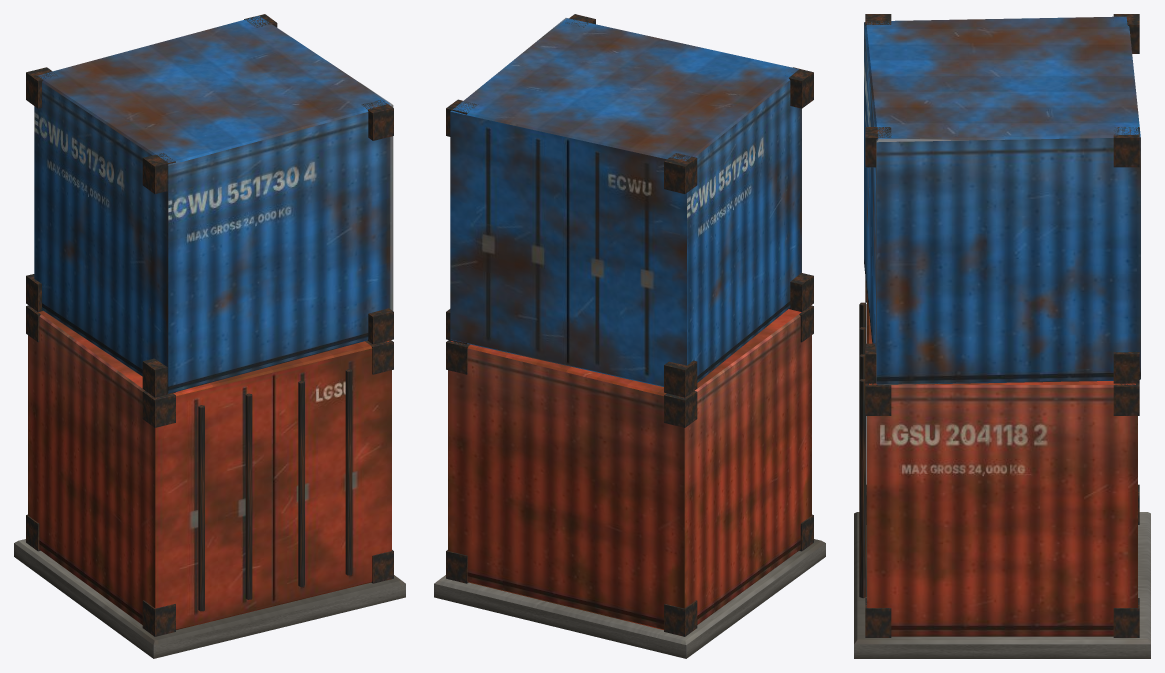
The model's file is prop_pillar_container_a-BWFTUz1b.glb.
The picture shows the model from 3 angles, left to right: view 1: azimuth 30°, elevation 25°; view 2: azimuth 150°, elevation 25°; view 3: azimuth 270°, elevation 25°; orthographic projection. The views are drawn at different scales.
Visible parts, largest first — view 1: prop_pillar_container_a_body; view 2: prop_pillar_container_a_body; view 3: prop_pillar_container_a_body.
Boxes of the visible parts, x1,y1,x2,y2 form: prop_pillar_container_a_body: (14,14,405,658); prop_pillar_container_a_body: (434,14,825,658); prop_pillar_container_a_body: (854,14,1150,658).
Size of the model in its own units: 0.96 by 1.77 by 0.92.
Materials: 1 (1 with a texture image).
